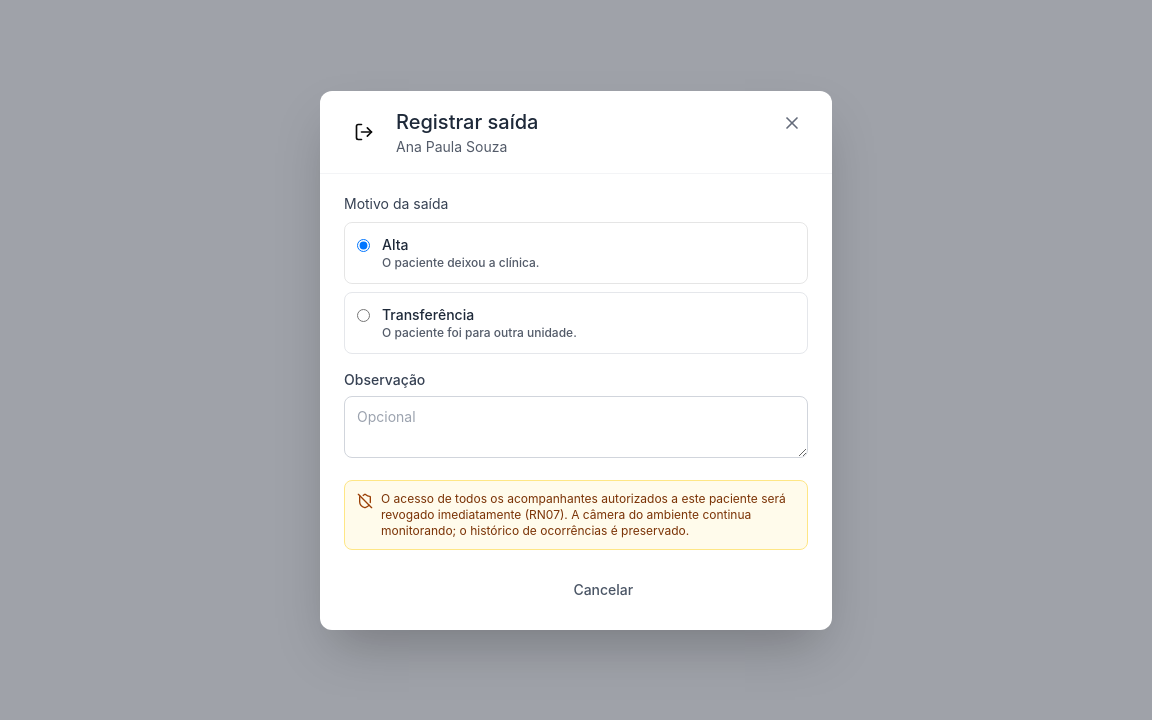
Test case: ModalAlta: motivo da saída, com nome acessível › as opções formam um grupo e só uma fica marcada
The image size is (1152, 720).
Expected: the radio button labelled "Alta O paciente deixou a clínica." is checked, [357,238,370,252]
Click the radio button labelled "Transferência O paciente foi para outra unidade.". click: (364, 315)
box: [357,308,370,322]
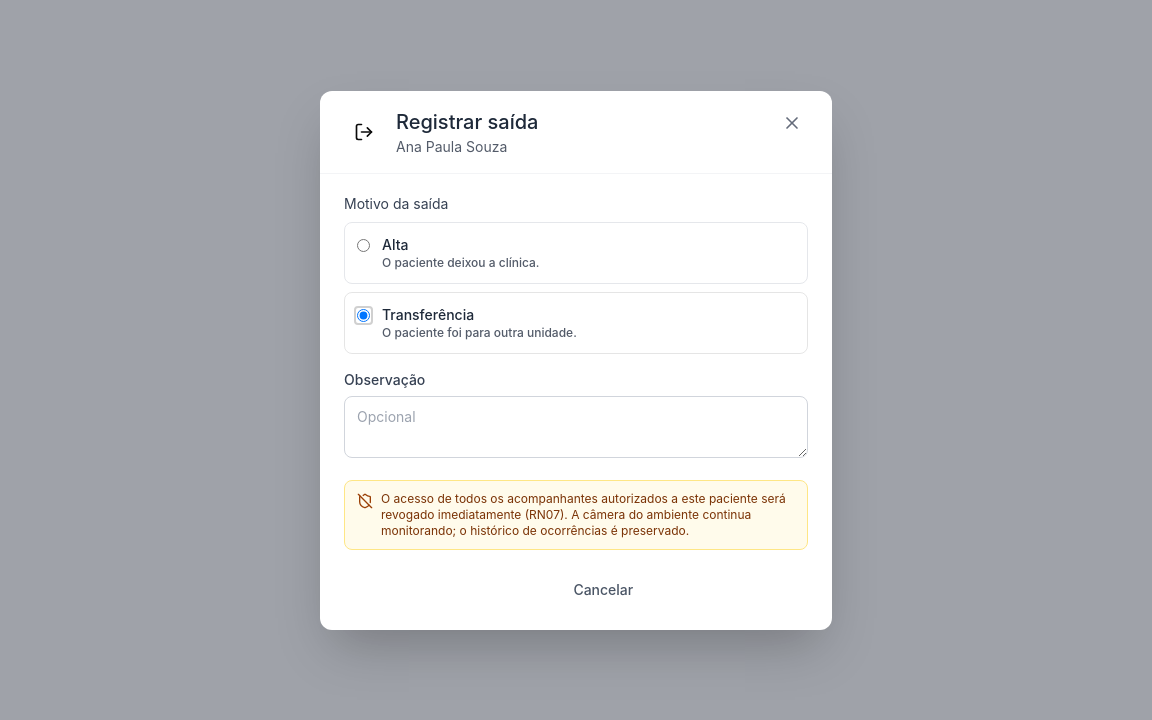
Expected: the radio button labelled "Transferência O paciente foi para outra unidade." is checked, [357,308,370,322]
Expected: the radio button labelled "Alta O paciente deixou a clínica." is not checked, [357,238,370,252]
